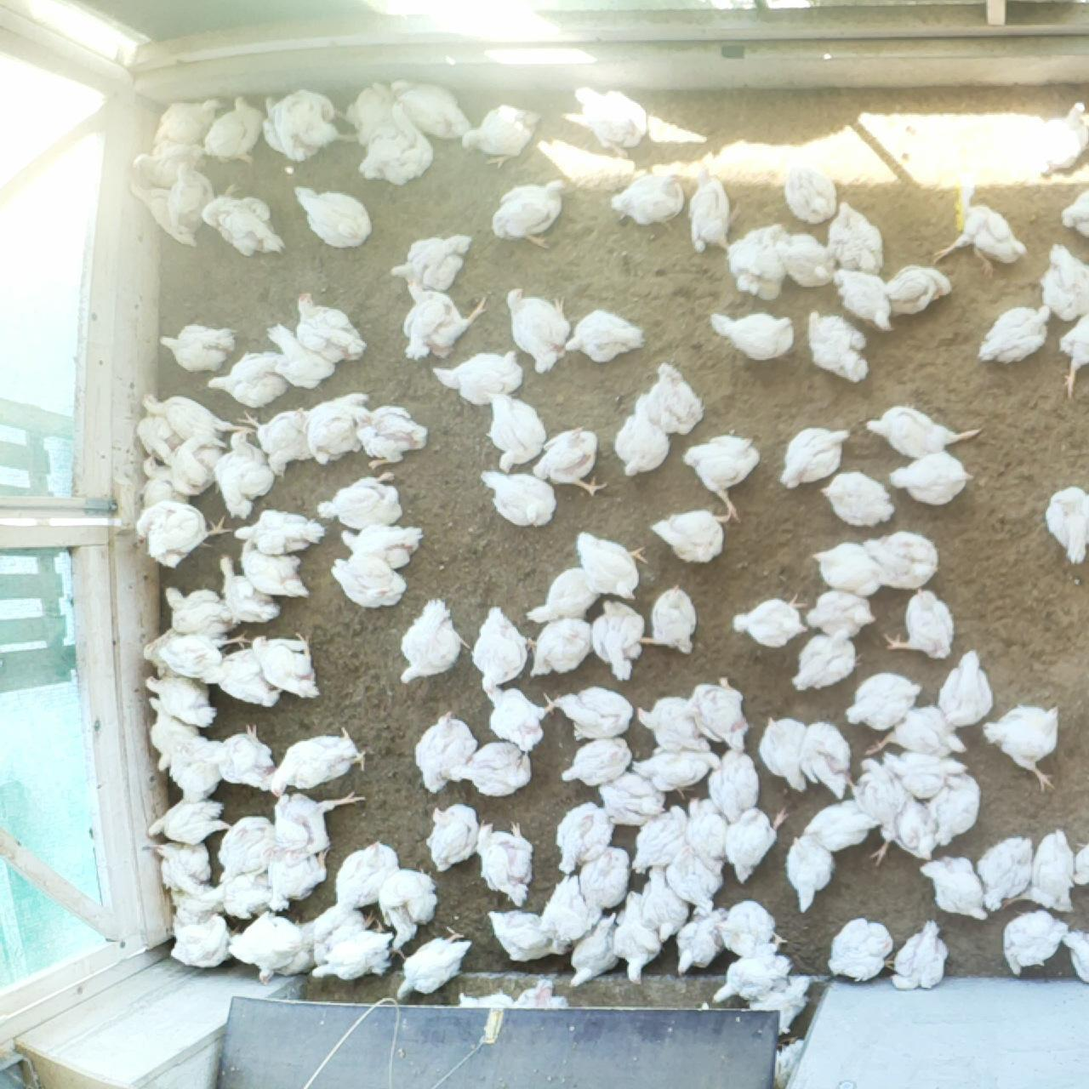chicken: (265, 725, 368, 803), (258, 85, 360, 162), (929, 200, 1029, 277), (979, 704, 1062, 796), (681, 432, 763, 525), (132, 498, 239, 567), (401, 277, 488, 361), (138, 391, 259, 450), (201, 179, 289, 260), (271, 788, 369, 858), (862, 404, 984, 459), (712, 931, 791, 1015), (399, 596, 471, 687), (140, 625, 254, 681), (470, 603, 538, 696), (862, 704, 971, 762), (627, 744, 724, 809), (210, 426, 277, 520), (394, 926, 475, 1003), (236, 407, 319, 482), (385, 72, 475, 141), (852, 758, 909, 864), (880, 585, 958, 662), (529, 425, 610, 499), (225, 908, 305, 982), (505, 288, 572, 375), (412, 707, 479, 794), (484, 386, 550, 474), (346, 401, 430, 470), (632, 359, 707, 436), (478, 677, 556, 750), (460, 102, 543, 170), (315, 468, 406, 530), (431, 348, 525, 408), (573, 85, 648, 160), (294, 288, 369, 363), (355, 117, 436, 186), (476, 818, 537, 909), (576, 529, 653, 601), (200, 644, 284, 710), (489, 178, 567, 249), (310, 920, 397, 983), (166, 157, 242, 229), (378, 865, 440, 953), (263, 319, 338, 391), (250, 628, 325, 700), (609, 887, 664, 985), (304, 387, 372, 466), (723, 805, 789, 885), (975, 299, 1052, 367), (974, 830, 1037, 913), (1001, 908, 1072, 981), (917, 852, 991, 922), (539, 871, 598, 958), (388, 233, 472, 294), (293, 185, 373, 249), (880, 747, 973, 802), (743, 970, 817, 1039), (484, 904, 569, 964), (934, 645, 995, 728), (476, 469, 560, 529), (859, 530, 942, 590), (842, 669, 925, 729), (144, 794, 236, 848), (826, 915, 895, 987), (199, 92, 265, 167), (777, 426, 854, 490), (807, 308, 871, 385), (206, 350, 289, 409), (334, 837, 402, 909), (818, 467, 898, 528), (299, 900, 379, 961), (755, 714, 816, 794), (327, 551, 408, 611), (925, 770, 984, 852), (829, 263, 897, 334), (216, 553, 284, 624), (633, 694, 712, 755), (589, 598, 647, 681), (237, 535, 313, 598), (727, 222, 786, 303), (138, 671, 219, 730), (214, 815, 276, 892), (525, 618, 595, 686), (708, 311, 797, 364), (688, 675, 750, 751), (552, 685, 636, 741), (554, 801, 615, 878), (129, 180, 199, 247), (798, 802, 886, 855), (891, 920, 952, 996), (563, 309, 647, 364), (607, 168, 684, 228), (889, 452, 976, 505), (146, 694, 202, 776), (629, 805, 689, 881), (338, 520, 427, 571), (790, 633, 865, 693), (826, 201, 885, 277), (799, 718, 853, 801), (233, 508, 328, 555), (784, 831, 837, 915), (524, 566, 602, 623), (218, 723, 279, 795), (704, 749, 761, 826), (1035, 100, 1089, 181), (716, 899, 790, 958), (670, 839, 726, 916), (811, 539, 884, 598), (596, 769, 669, 828), (1036, 241, 1089, 322), (734, 592, 812, 647), (165, 907, 235, 968), (648, 509, 727, 563), (152, 96, 229, 151), (631, 802, 686, 879), (610, 410, 672, 478), (567, 910, 616, 994), (161, 584, 243, 634), (214, 866, 291, 919), (561, 736, 635, 791), (884, 260, 955, 317), (157, 323, 237, 373), (803, 585, 876, 639), (423, 803, 480, 872), (782, 158, 839, 226), (689, 162, 731, 254), (641, 866, 691, 943), (684, 796, 732, 876), (1034, 828, 1078, 915), (648, 583, 699, 658), (148, 836, 216, 892), (167, 432, 226, 496), (342, 79, 403, 140), (167, 738, 225, 801), (267, 847, 330, 905), (1044, 486, 1089, 566), (887, 795, 939, 864), (128, 145, 208, 188), (780, 229, 837, 289), (140, 451, 194, 510), (1055, 312, 1089, 401), (133, 413, 188, 465), (168, 883, 228, 921), (515, 977, 572, 1013), (770, 1039, 810, 1089), (1059, 927, 1089, 988), (1060, 184, 1089, 240), (453, 989, 515, 1013), (1071, 842, 1089, 890), (695, 1000, 710, 1010)
